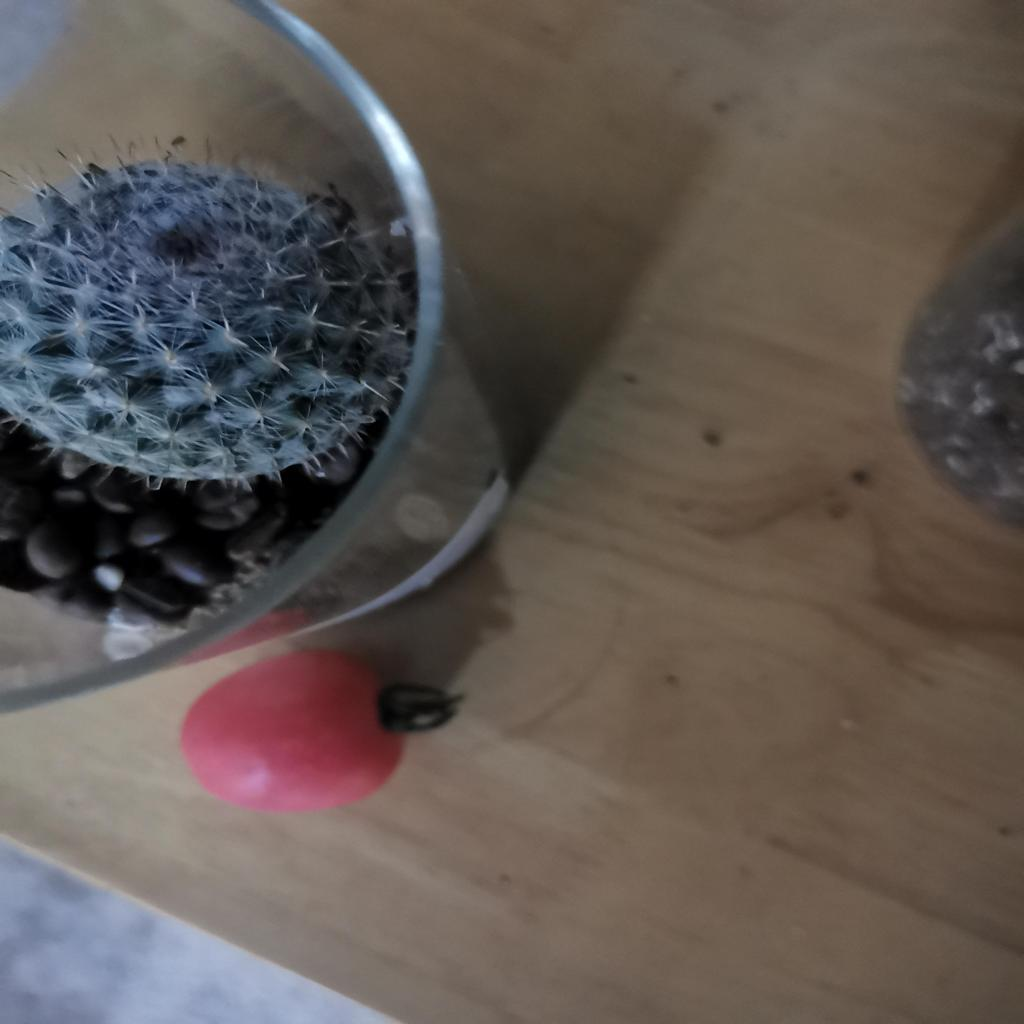tomato: (169, 659, 411, 815)
